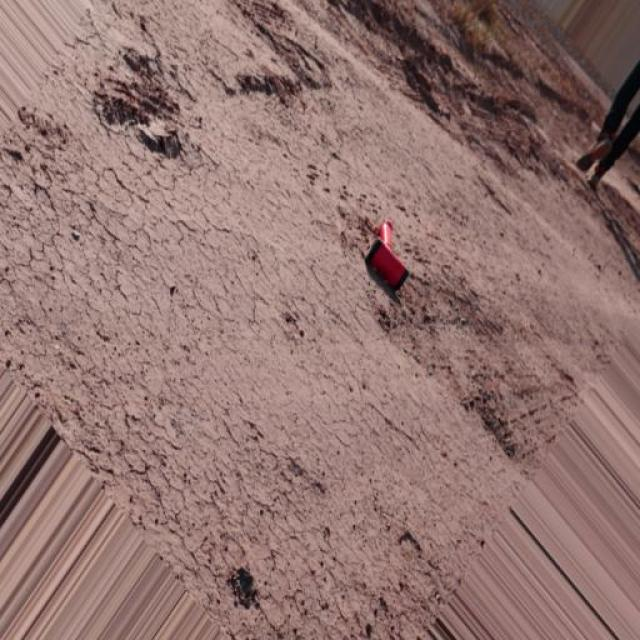mallet: (362, 218, 408, 290)
